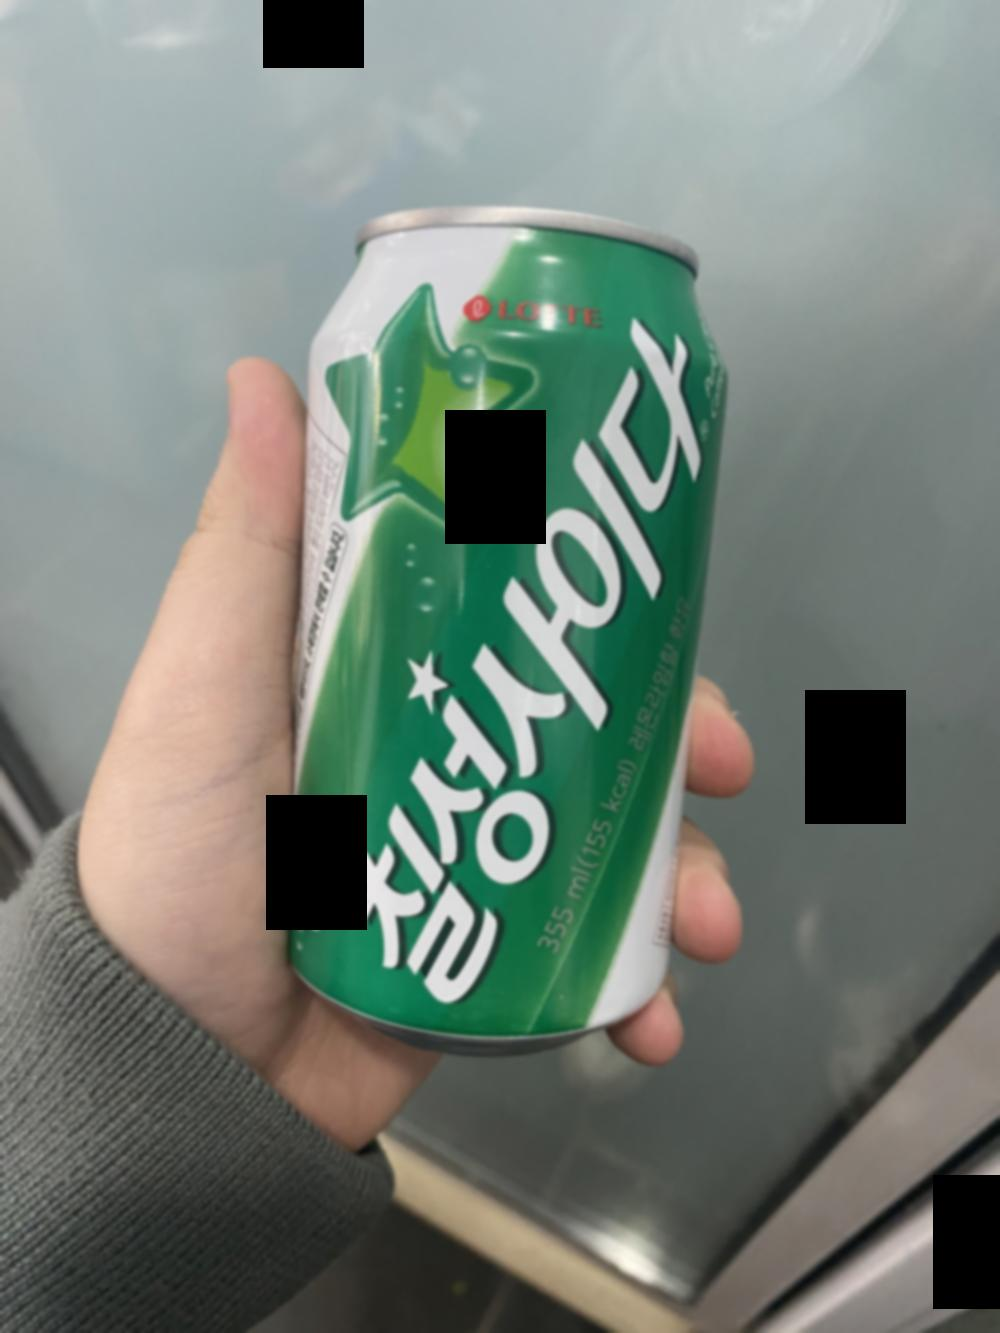chilsungcider: (288, 203, 725, 1048)
